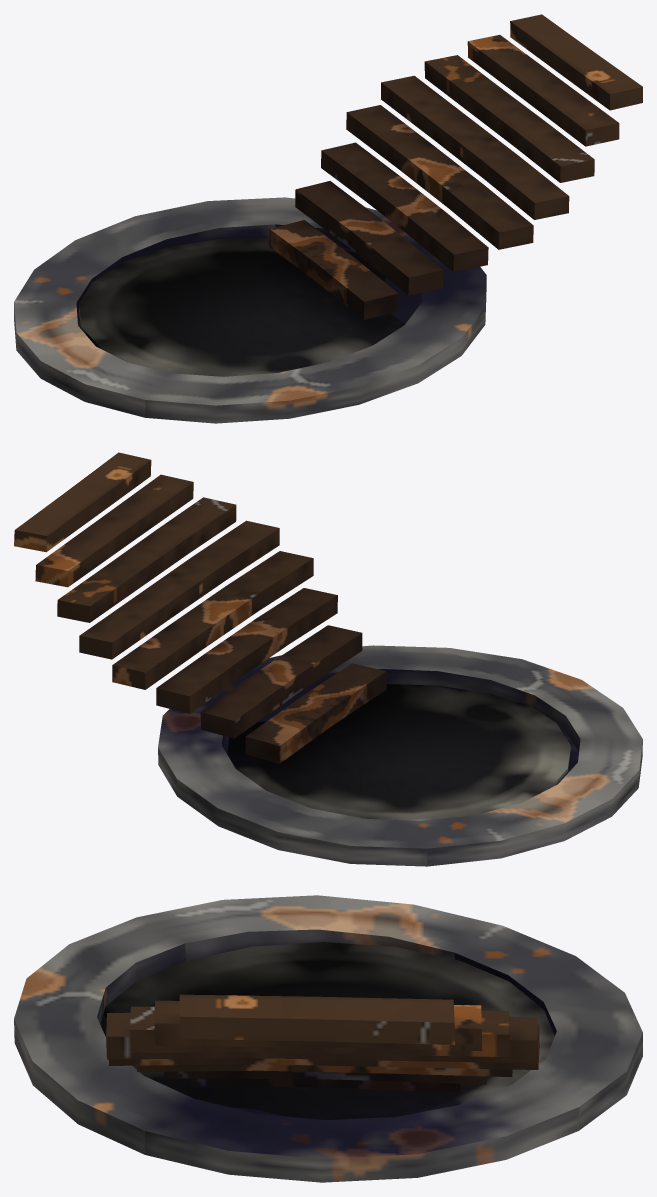
Rendered from ManholeCover.glb.
3 renders of one model, top to bottom at view 1: azimuth 30°, elevation 25°; view 2: azimuth 150°, elevation 25°; view 3: azimuth 270°, elevation 25°, orthographic. The views are drawn at different scales.
Visible parts, largest first — view 1: Cover, Frame, Hole; view 2: Cover, Frame, Hole; view 3: Frame, Cover, Hole.
Part boxes in pixels (x1=…): Cover: x1=269, y1=14, x2=642, y2=319; Frame: x1=14, y1=197, x2=486, y2=423; Hole: x1=79, y1=238, x2=404, y2=376; Cover: x1=14, y1=452, x2=386, y2=763; Frame: x1=158, y1=645, x2=642, y2=866; Hole: x1=227, y1=684, x2=570, y2=820; Frame: x1=14, y1=895, x2=642, y2=1182; Cover: x1=106, y1=994, x2=539, y2=1092; Hole: x1=100, y1=942, x2=554, y2=1120.
Bounding box in the file's own units: 2.01 × 0.6924 × 1.48.
Materials: 3 (3 with a texture image).
